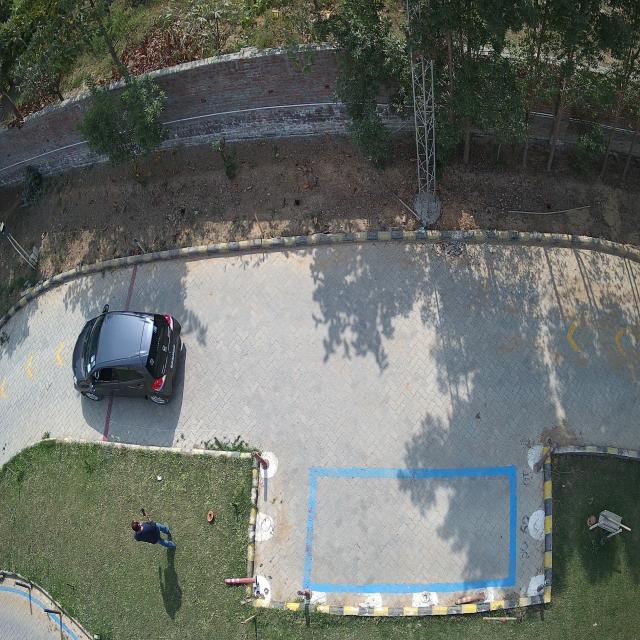car: (72, 305, 181, 405)
